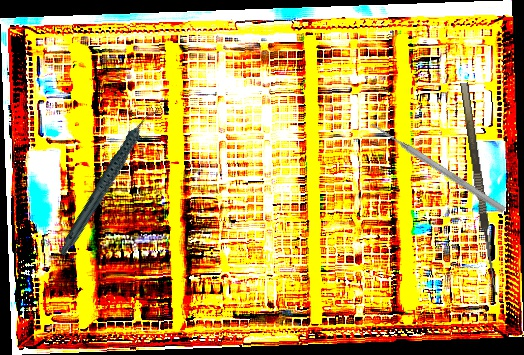Handpiece: (33, 106, 184, 257)
Hook Surgical: (460, 80, 510, 297)
Pusher: (369, 119, 507, 215)
